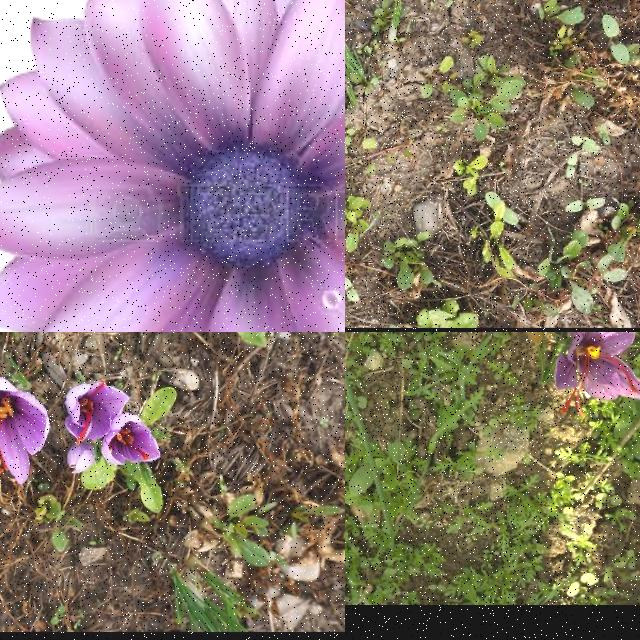flower: (554, 332, 640, 417), (0, 374, 51, 485), (64, 380, 132, 446), (100, 412, 162, 466)
